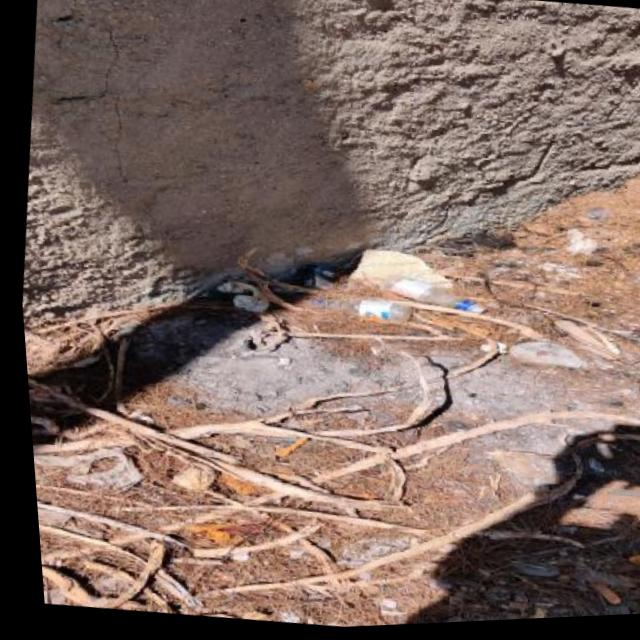cardboard: (296, 259, 342, 292)
foam: (345, 242, 457, 295)
plastic: (375, 268, 489, 320), (309, 291, 415, 326)
